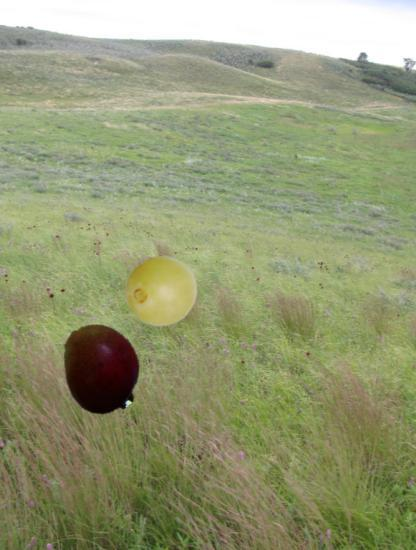Grape: (125, 255, 199, 329)
Mango: (54, 322, 147, 415)
